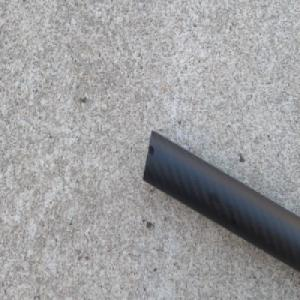LuggagePart: (141, 125, 300, 274)
